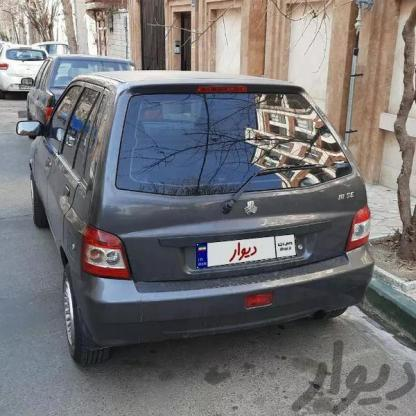Car: (0, 76, 371, 358), (25, 62, 139, 122), (0, 38, 55, 80)
